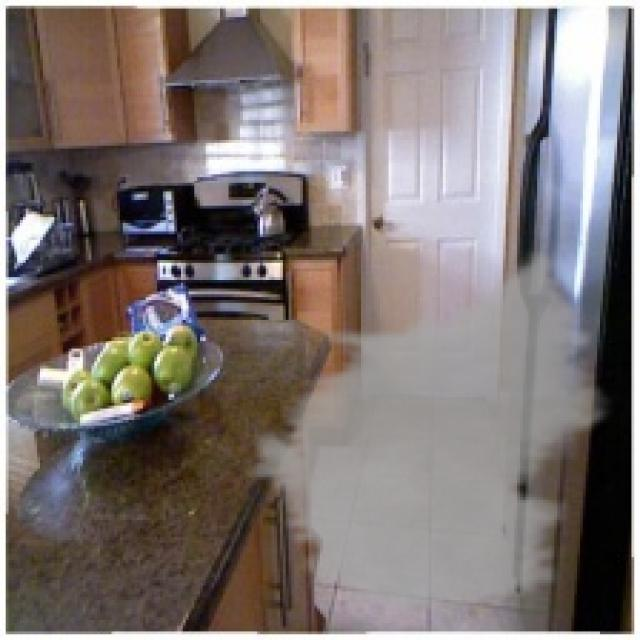smoke: (240, 249, 620, 617)
